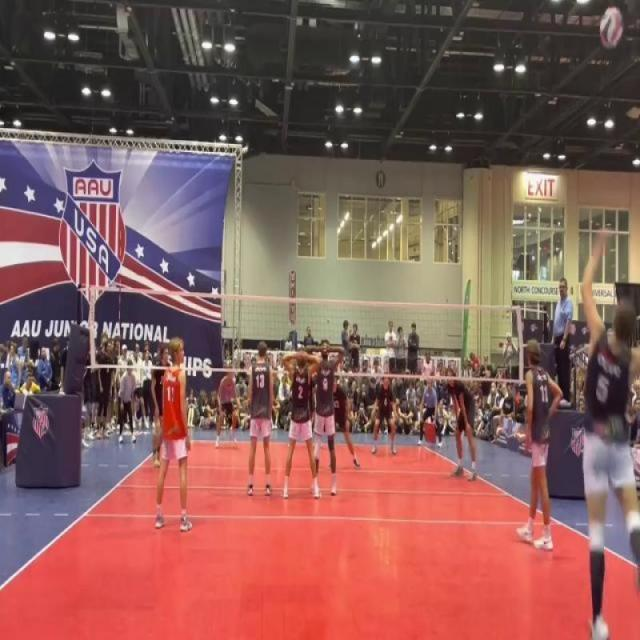volleyball: (599, 7, 625, 50)
